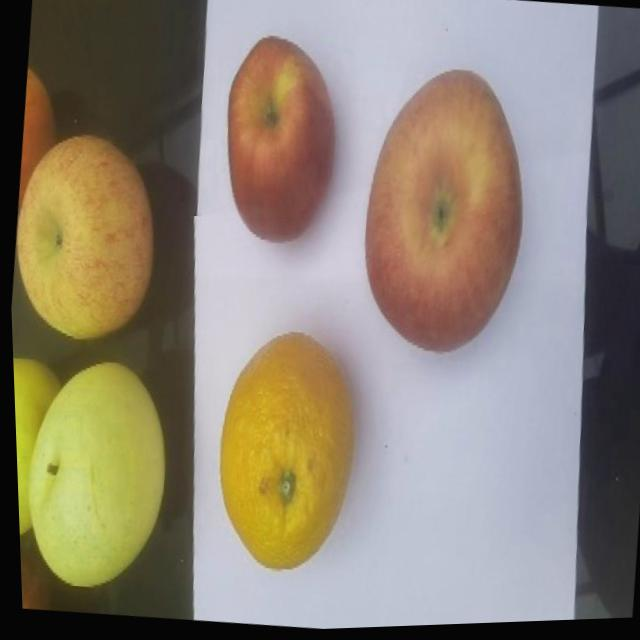Apple: (343, 62, 546, 371), (4, 127, 167, 353), (202, 26, 354, 256), (10, 61, 67, 232)
Orange: (198, 323, 367, 587)
